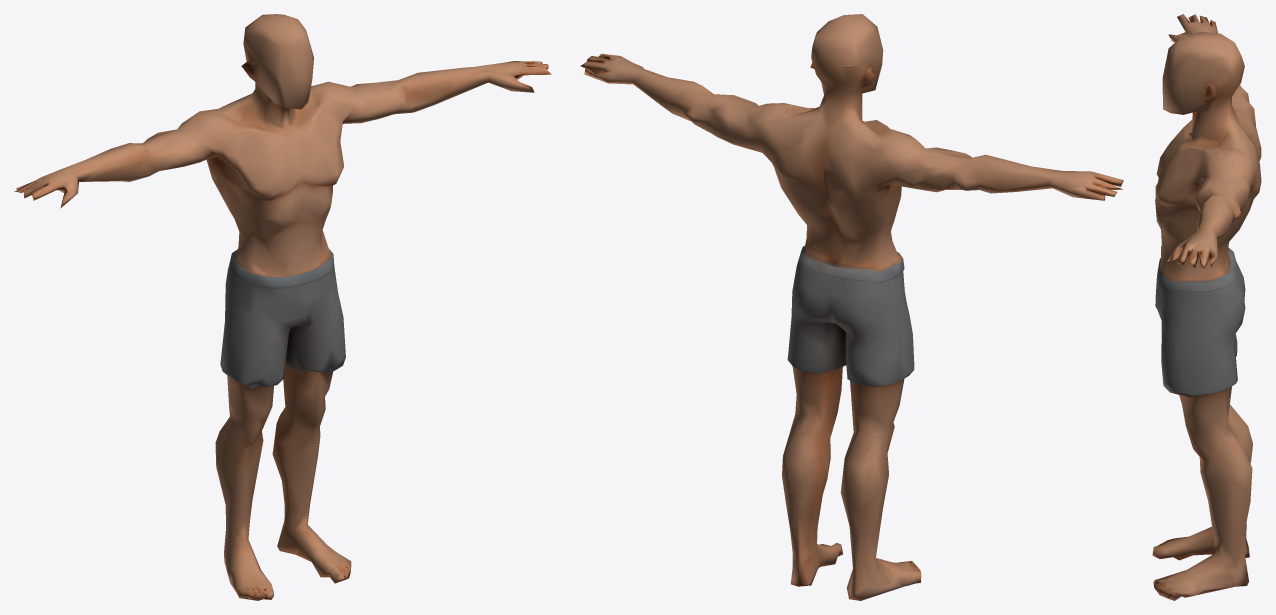
File: human_male.glb
3 views of the same model, side by side, from view 1: azimuth 30°, elevation 25°; view 2: azimuth 150°, elevation 25°; view 3: azimuth 270°, elevation 25° (orthographic). The views are drawn at different scales.
Visible parts, largest first — view 1: tripo_node_dbf1c461-7259-435f-99d8-8675c7de4edf; view 2: tripo_node_dbf1c461-7259-435f-99d8-8675c7de4edf; view 3: tripo_node_dbf1c461-7259-435f-99d8-8675c7de4edf.
Boxes of the visible parts, x1,y1,x2,y2 form: tripo_node_dbf1c461-7259-435f-99d8-8675c7de4edf: (14,14,551,600); tripo_node_dbf1c461-7259-435f-99d8-8675c7de4edf: (580,14,1123,600); tripo_node_dbf1c461-7259-435f-99d8-8675c7de4edf: (1152,14,1261,600).
Bounding box in the file's own units: 0.993 × 1 × 0.1833.
Materials: 1 (1 with a texture image).
